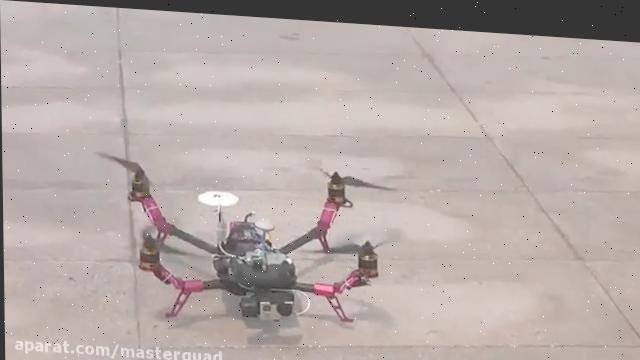drone: (84, 134, 408, 335)
